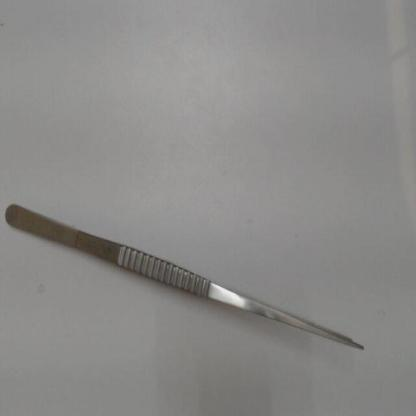DeBakey Dissector: (5, 186, 390, 382)
